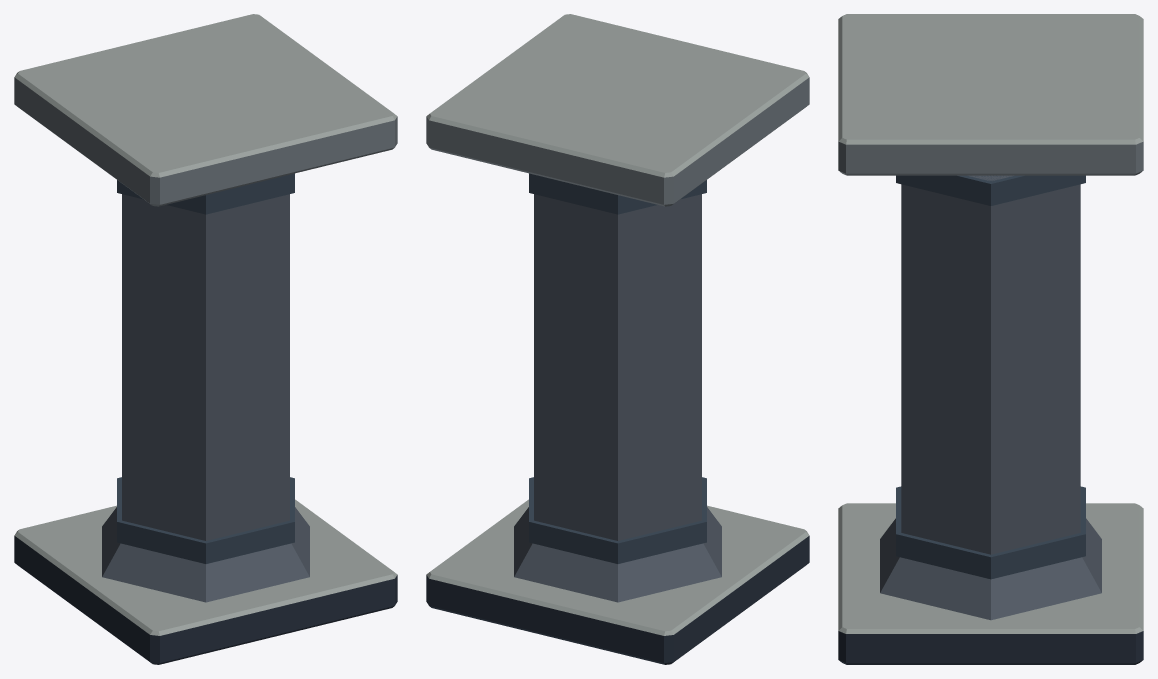
The model's file is pillar-large.glb.
3 renders of one model, left to right at view 1: azimuth 30°, elevation 25°; view 2: azimuth 150°, elevation 25°; view 3: azimuth 270°, elevation 25°, orthographic. The views are drawn at different scales.
Visible parts, largest first — view 1: pillar-large__body; view 2: pillar-large__body; view 3: pillar-large__body.
Part boxes in pixels (bbox=[...]): pillar-large__body: bbox=[14, 14, 397, 664]; pillar-large__body: bbox=[426, 14, 809, 664]; pillar-large__body: bbox=[838, 14, 1143, 664].
Bounding box in the file's own units: 1 × 1.9 × 1.
